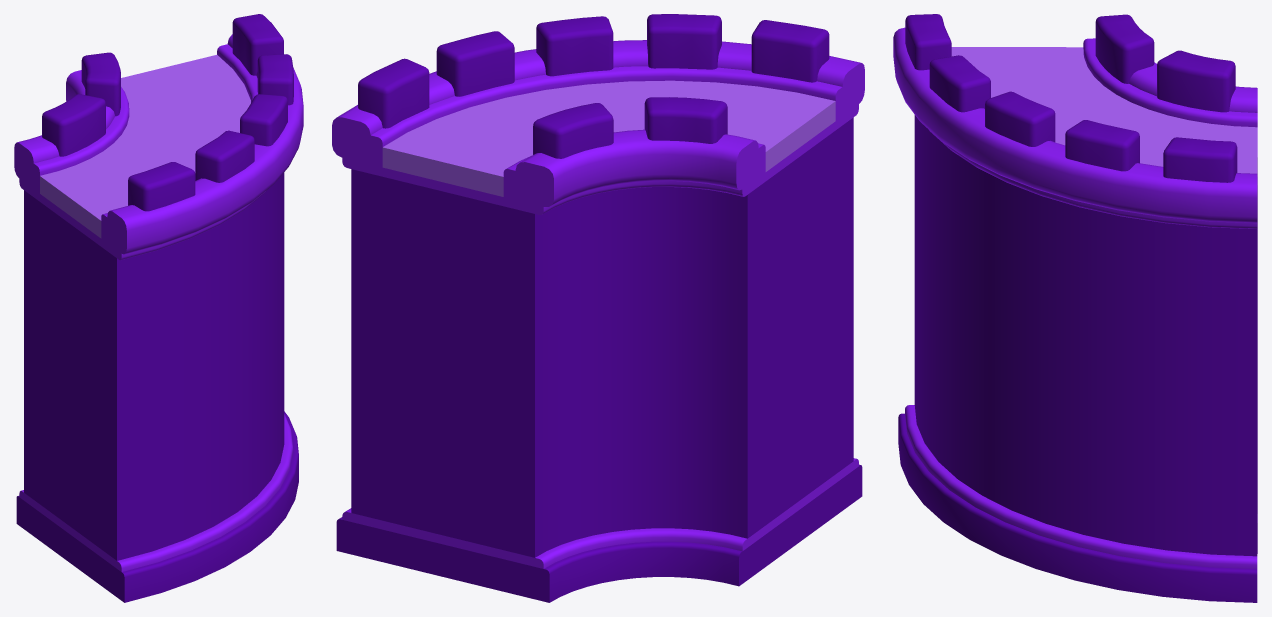
The model's file is Thick wall corner (extra tall).fbx.
The picture shows the model from 3 angles, left to right: view 1: azimuth 30°, elevation 25°; view 2: azimuth 150°, elevation 25°; view 3: azimuth 270°, elevation 25°; orthographic projection. The views are drawn at different scales.
Parts seen in each view (by area): view 1: Plane.059; view 2: Plane.059; view 3: Plane.059.
Boxes of the visible parts, <box> form: Plane.059: <box>14,14,303,602</box>; Plane.059: <box>332,14,864,602</box>; Plane.059: <box>893,14,1257,602</box>.
Bounding box in the file's own units: 76.28 × 98.48 × 73.18.
1 material, 1 textured.
